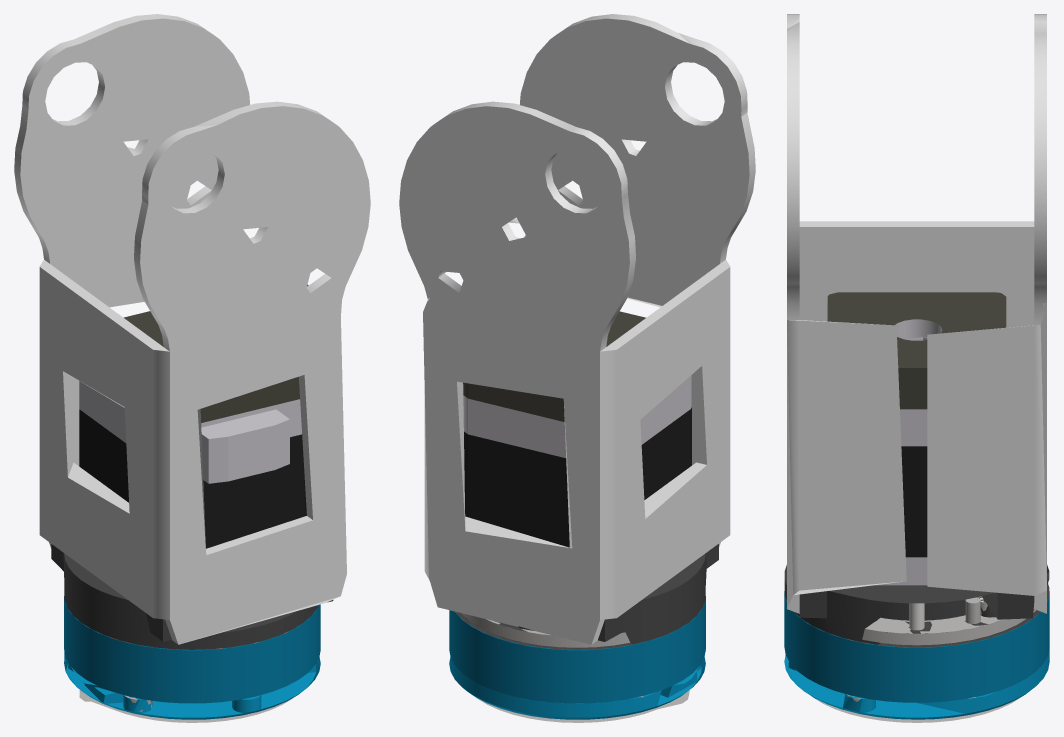
File: r_elbow_link.dae
3 renders of one model, left to right at view 1: azimuth 30°, elevation 25°; view 2: azimuth 150°, elevation 25°; view 3: azimuth 270°, elevation 25°, orthographic. The views are drawn at different scales.
Visible parts, largest first — view 1: FBXASC227FBXASC130FBXASC189FBXASC227FBXASC131FBXASC170FBXASC (×6); view 2: FBXASC227FBXASC130FBXASC189FBXASC227FBXASC131FBXASC170FBXASC (×7); view 3: FBXASC227FBXASC130FBXASC189FBXASC227FBXASC131FBXASC170FBXASC (×7).
Part boxes in pixels (x1,y1,x2,y2): FBXASC227FBXASC130FBXASC189FBXASC227FBXASC131FBXASC170FBXASC (×6): (14,14,370,722); FBXASC227FBXASC130FBXASC189FBXASC227FBXASC131FBXASC170FBXASC (×7): (399,14,755,722); FBXASC227FBXASC130FBXASC189FBXASC227FBXASC131FBXASC170FBXASC (×7): (784,14,1049,722).
Size of the model in its own units: 0.054 by 0.052 by 0.137.
